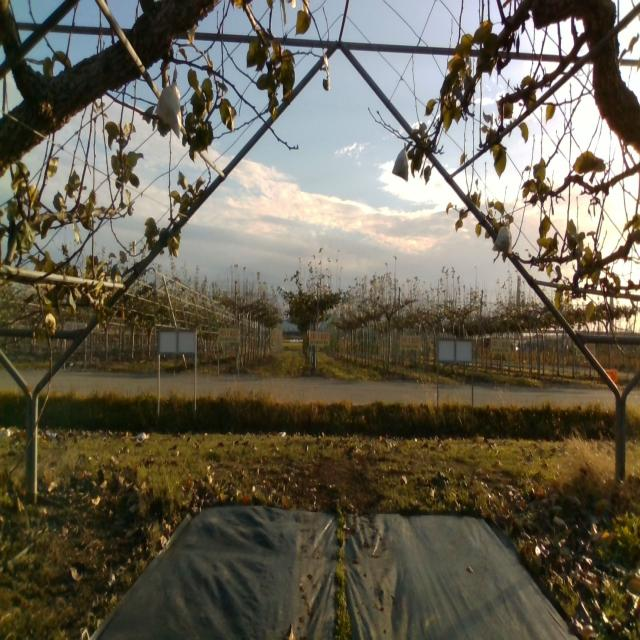pearbags: (152, 69, 181, 139), (492, 218, 512, 258), (392, 143, 409, 180)
